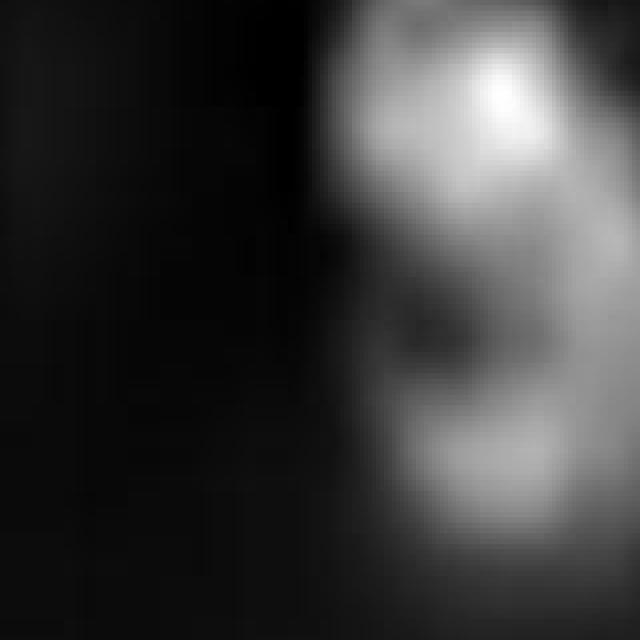person: (337, 1, 640, 588)
